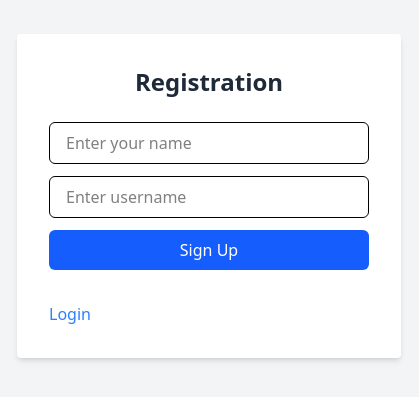
RegistrationPage › shows error on registration failure
Type "Test" into the field with placeholder "Enter your name" at (209,143), box [49,122,369,164]
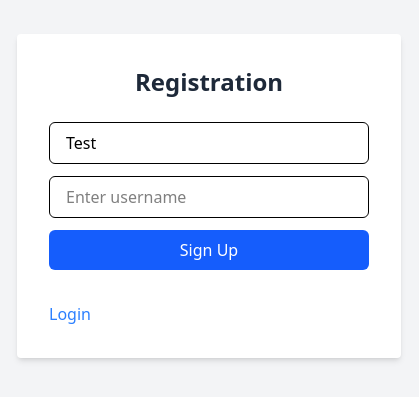
Type "existing" into the field with placeholder "Enter username" at (209,197), box [49,176,369,218]
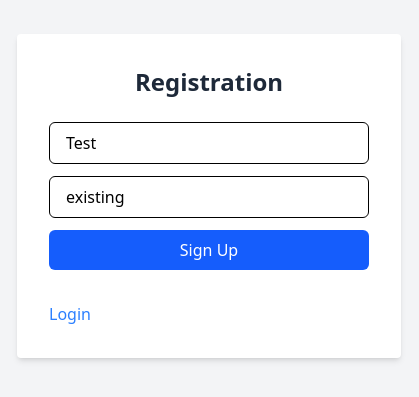
Click the button "Sign Up" at (209,250), box [49,230,369,270]
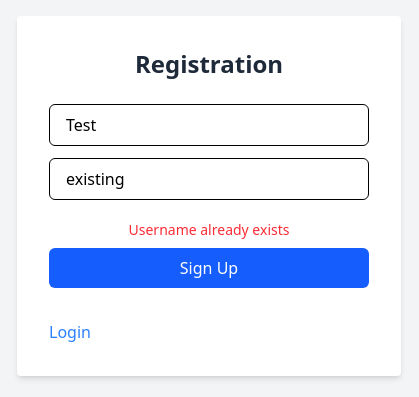
Expected: the text "Username already exists" is shown, [128,220,290,239]
